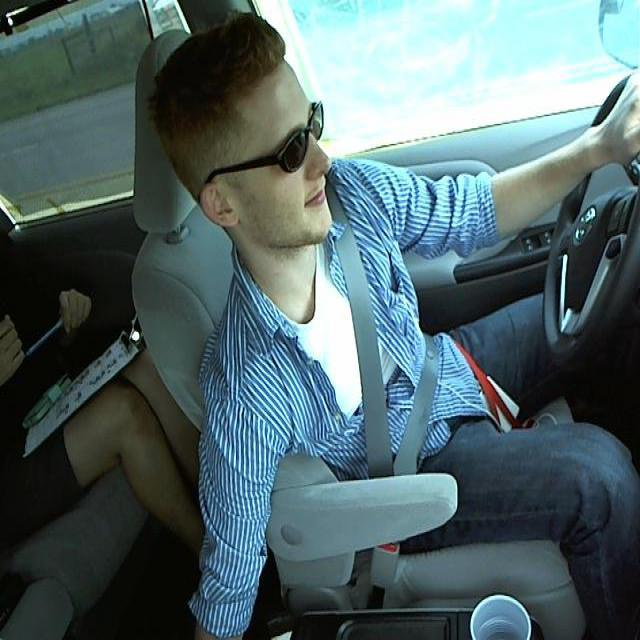seatbelt: (329, 227, 453, 469)
